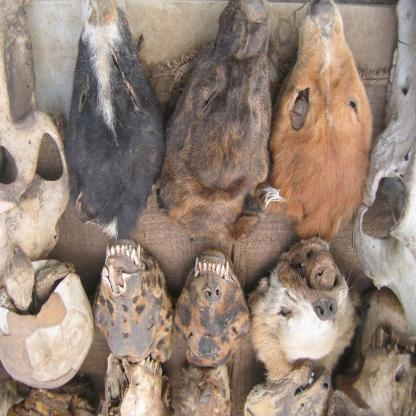boar: (63, 0, 166, 242)
